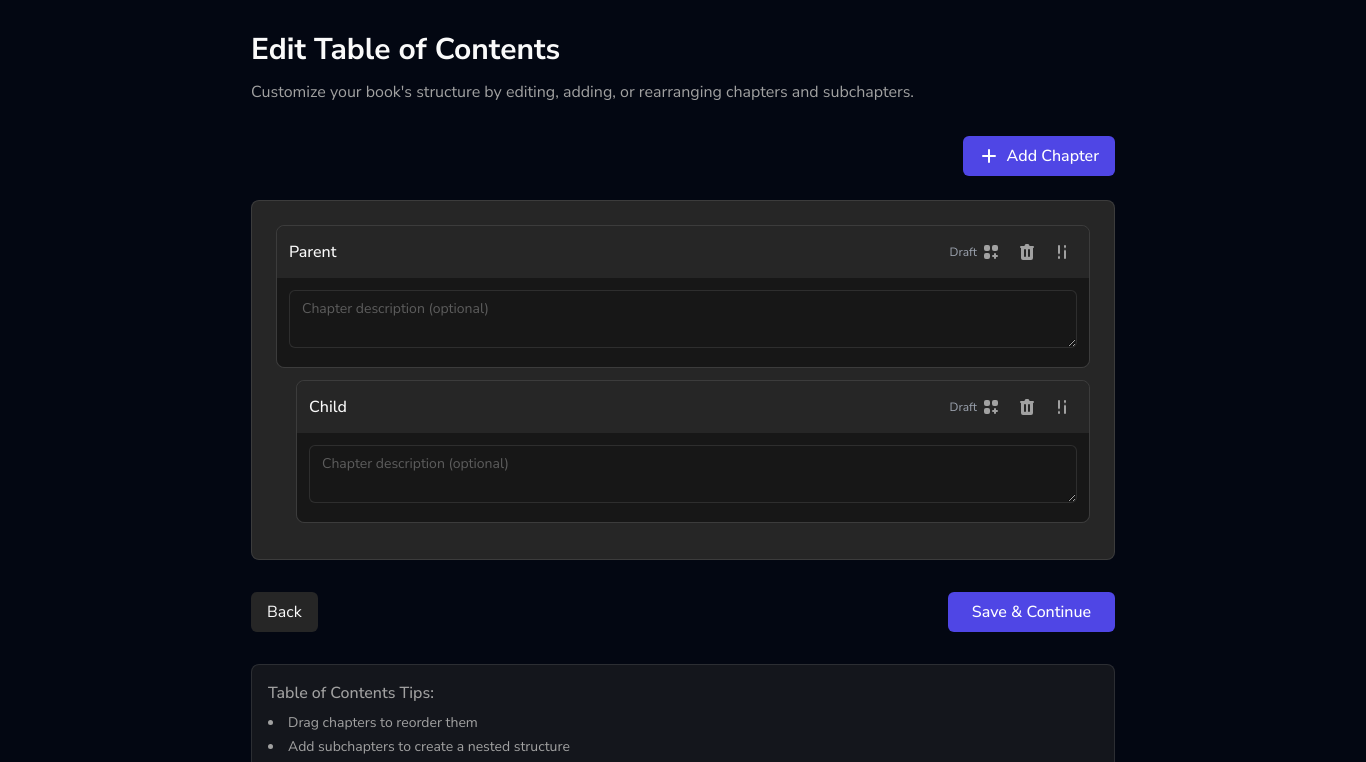
Test case: counts the writing and answers of the subchapters that go with it
Expected: the 1st field showing "Parent" is shown, x1=289 y1=240 x2=942 y2=264
Click the 1st button titled "Delete Chapter" at x=1027, y=252, box x1=1013 y1=238 x2=1041 y2=266
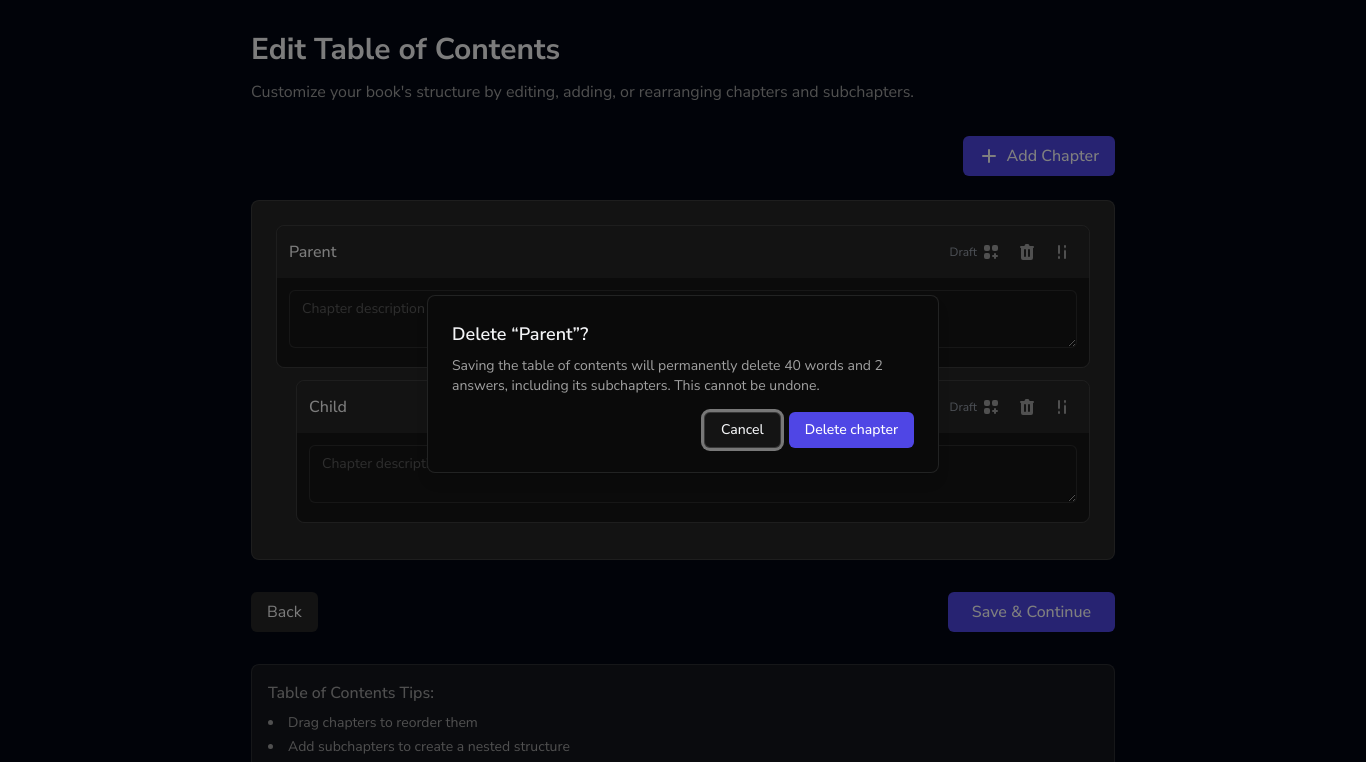
Result: the dialog shows "40 words" at x1=784 y1=356 x2=844 y2=375
Result: the dialog shows "2 answers" at x1=452 y1=356 x2=883 y2=395
